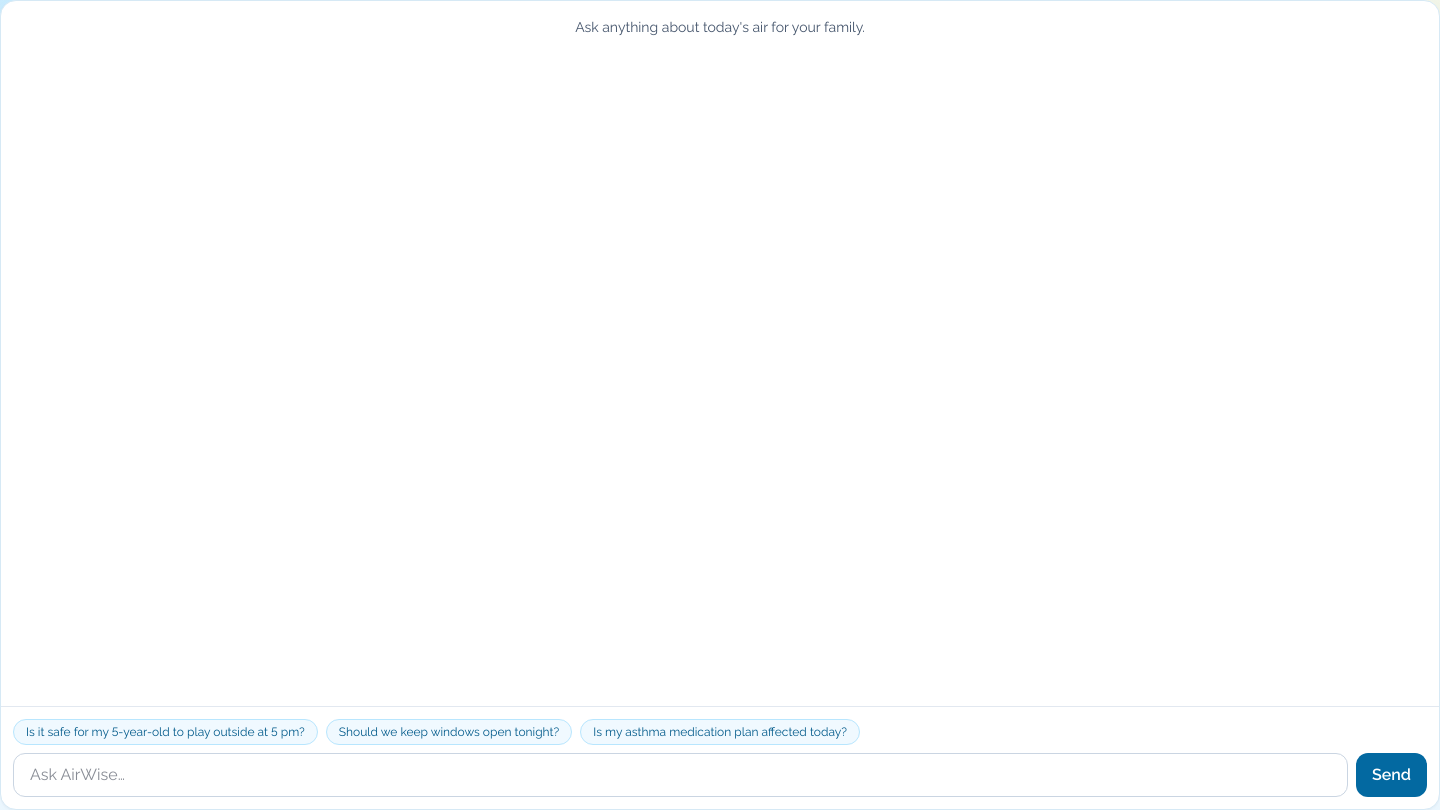
Test: ChatBox › a sample question fills the input
The width and height of the screenshot is (1440, 810).
What coordinates should you click on to do the following:
click the button "Should we keep windows open tonight?"
I would click on:
 (449, 732)
Its box is [326,719,572,745].
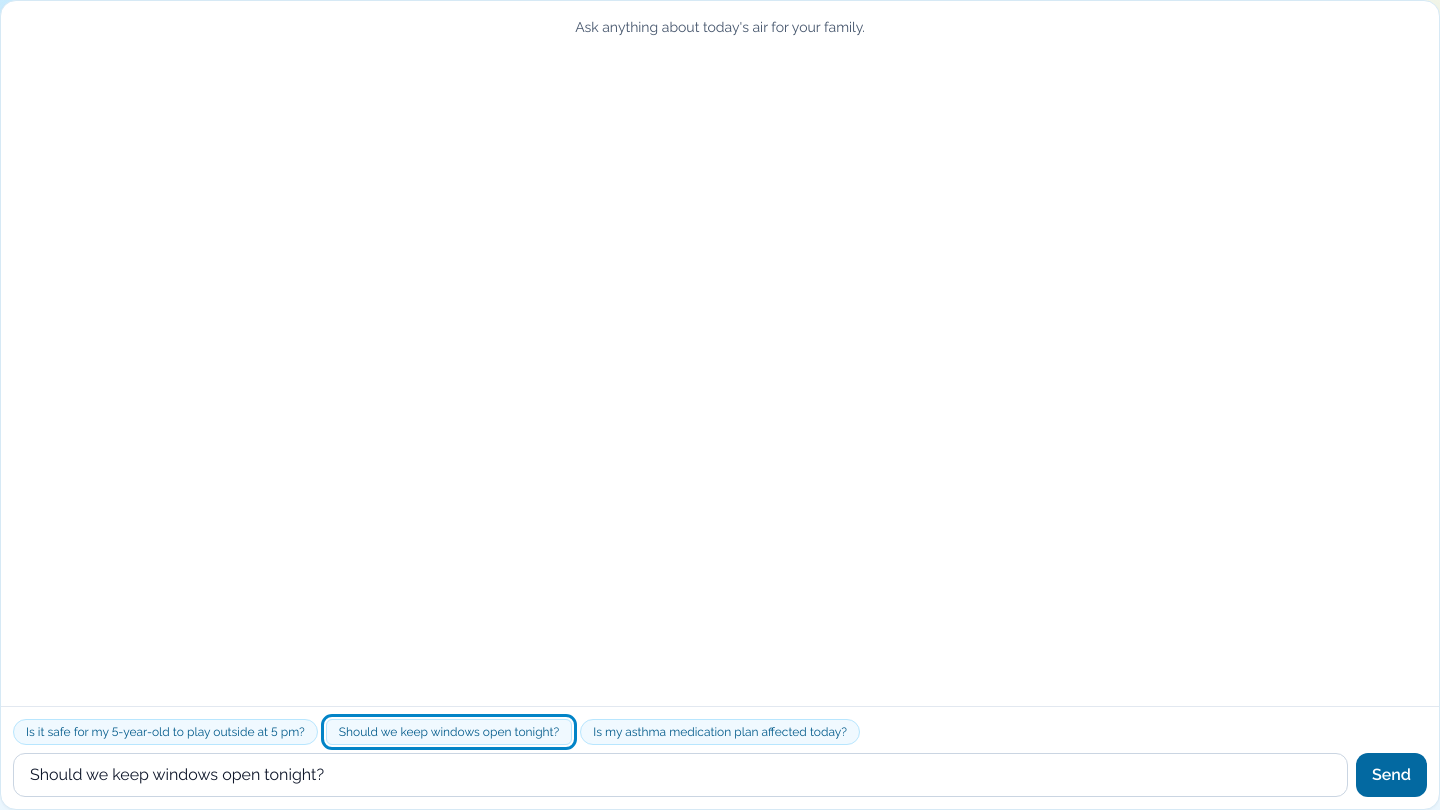
Check: the field named "Your question" holds "Should we keep windows open tonight?", box [13,753,1348,797]
